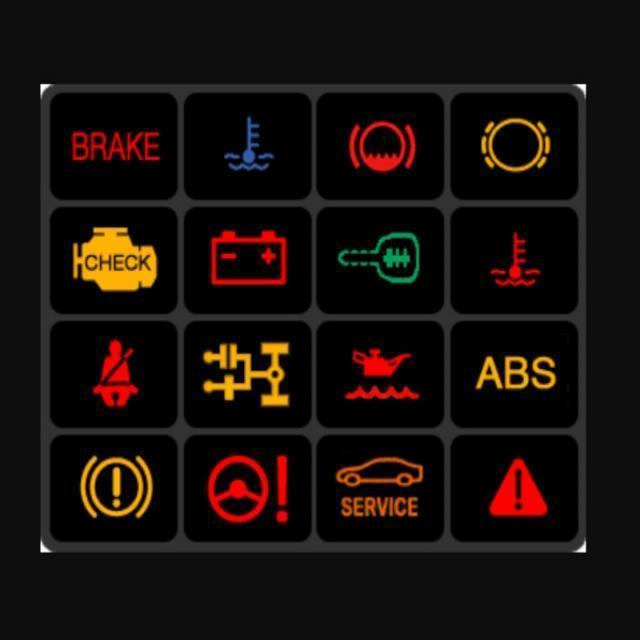Electronic Power Steering: (205, 449, 288, 527)
